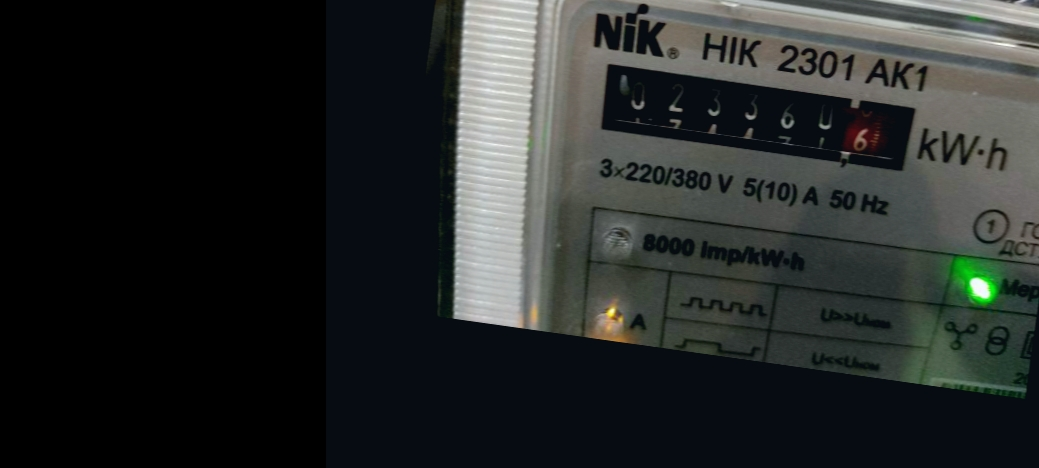0: (626, 75, 651, 110), (816, 97, 837, 130)
2: (663, 77, 691, 114)
3: (701, 82, 727, 117), (740, 87, 763, 120)
6: (775, 95, 800, 129), (848, 120, 873, 152)
screen: (579, 42, 931, 187)
